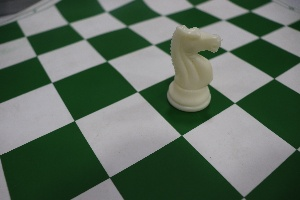white_horse: (160, 11, 224, 122)
